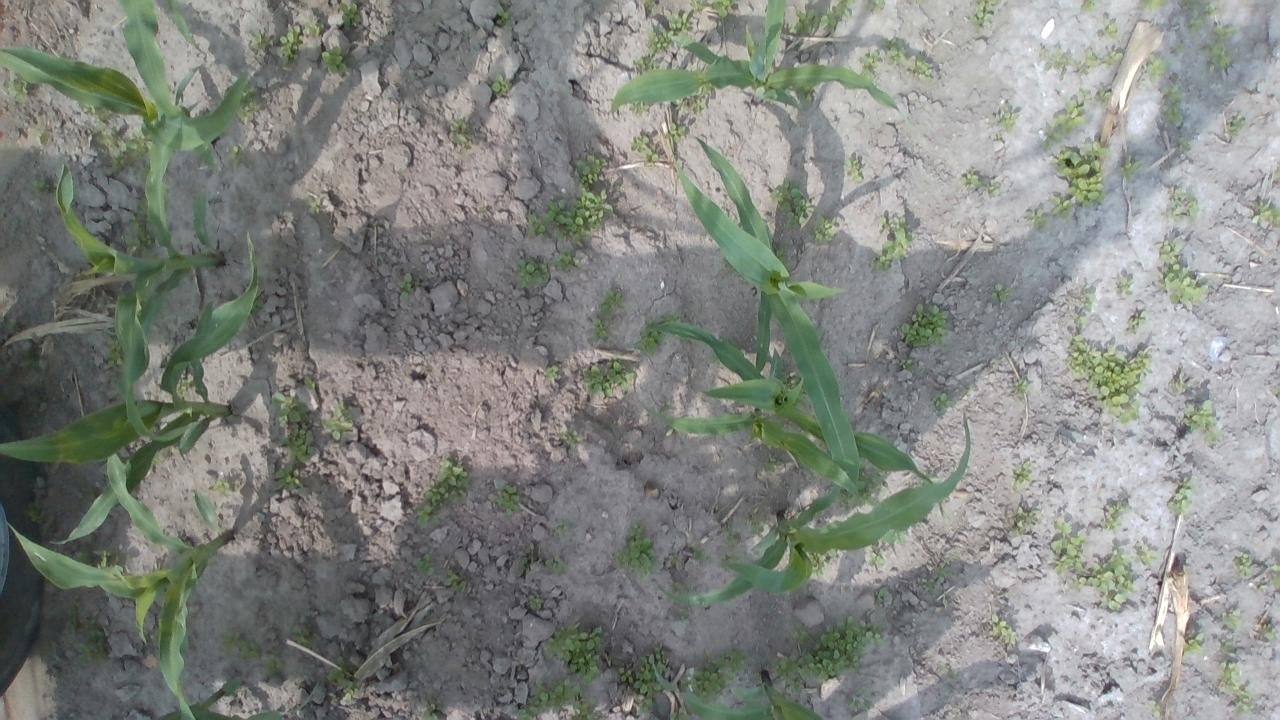Maize: (0, 230, 261, 546), (674, 133, 864, 492), (667, 410, 975, 609), (6, 452, 234, 720), (658, 313, 947, 523), (54, 118, 226, 446), (0, 0, 247, 168), (610, 0, 906, 120), (651, 657, 827, 720), (145, 672, 288, 720), (166, 0, 192, 44)
Weeds: (768, 614, 886, 693), (1066, 334, 1154, 424), (270, 393, 320, 492), (1052, 142, 1112, 220), (527, 188, 613, 240), (412, 454, 468, 529), (681, 648, 750, 706), (542, 620, 603, 684), (517, 674, 597, 720), (1157, 238, 1209, 306), (1090, 545, 1138, 613), (93, 118, 144, 174), (1050, 519, 1089, 591), (633, 644, 670, 716), (870, 216, 914, 272), (613, 521, 655, 579), (770, 174, 816, 225), (900, 302, 951, 348), (790, 0, 856, 34), (1042, 99, 1086, 149), (1183, 396, 1225, 444), (582, 359, 636, 396), (122, 199, 154, 257), (590, 288, 624, 342), (842, 472, 889, 509), (326, 656, 359, 704), (318, 401, 353, 441), (1167, 186, 1200, 226), (72, 629, 108, 665), (1166, 477, 1200, 514), (222, 628, 262, 658), (486, 477, 520, 512), (514, 257, 550, 290), (572, 154, 608, 187), (235, 82, 263, 123), (278, 22, 304, 66), (1078, 48, 1122, 74), (632, 320, 664, 355), (676, 82, 712, 113), (804, 548, 843, 576), (1100, 500, 1132, 534), (1006, 506, 1040, 538), (4, 73, 37, 104), (960, 170, 1001, 194), (926, 560, 954, 594), (628, 134, 656, 166), (1038, 46, 1072, 72), (290, 622, 321, 650), (1204, 42, 1232, 72), (971, 0, 996, 33), (319, 46, 348, 74), (1251, 200, 1280, 228), (95, 548, 125, 574), (990, 614, 1016, 644), (1215, 659, 1239, 691), (1011, 459, 1034, 490), (339, 0, 361, 32), (646, 30, 674, 55), (261, 650, 287, 676), (908, 54, 934, 80), (104, 336, 125, 368), (812, 215, 836, 242), (1078, 87, 1112, 106), (448, 116, 470, 145), (931, 388, 953, 417), (150, 444, 180, 465), (1232, 550, 1256, 576), (884, 38, 908, 64), (846, 688, 872, 712), (1146, 54, 1168, 82), (1172, 367, 1193, 396), (554, 248, 578, 272), (991, 283, 1016, 306), (1136, 542, 1158, 567), (1127, 309, 1148, 335), (1214, 23, 1240, 44), (398, 272, 415, 304), (1118, 158, 1142, 180), (1026, 207, 1050, 229), (172, 368, 189, 399), (79, 105, 114, 120), (994, 109, 1019, 130), (414, 550, 434, 576), (1160, 86, 1186, 106), (866, 542, 886, 568), (861, 50, 880, 77), (750, 507, 769, 534), (633, 56, 656, 78), (544, 558, 570, 577), (492, 74, 514, 96), (666, 122, 688, 144), (25, 499, 45, 523), (1235, 687, 1252, 715), (62, 606, 80, 632), (1183, 632, 1204, 654), (1229, 114, 1248, 138), (845, 158, 864, 182), (647, 398, 671, 417), (770, 238, 786, 266), (1141, 0, 1169, 16), (446, 570, 466, 592), (668, 12, 688, 34), (560, 429, 582, 449), (496, 3, 514, 27), (18, 350, 42, 368), (711, 0, 736, 17), (883, 528, 909, 544), (760, 457, 784, 474), (248, 31, 270, 49), (1222, 606, 1240, 628), (1080, 287, 1096, 311), (212, 479, 234, 496), (873, 586, 890, 608), (30, 176, 50, 194), (1103, 19, 1119, 41), (303, 197, 321, 216), (723, 526, 741, 545), (1186, 15, 1206, 32), (1014, 378, 1032, 396), (670, 606, 690, 622), (0, 316, 20, 332), (1118, 276, 1133, 297), (250, 292, 264, 314), (302, 18, 320, 35), (1164, 105, 1181, 123), (32, 127, 48, 146), (798, 85, 814, 104), (1260, 623, 1277, 640), (1176, 134, 1192, 152), (225, 144, 241, 162), (865, 0, 886, 13), (544, 364, 560, 381), (1081, 0, 1100, 14), (672, 581, 691, 595), (421, 707, 441, 720), (302, 374, 318, 390), (1202, 1, 1218, 17), (618, 665, 634, 681), (1271, 562, 1280, 590), (691, 543, 704, 561), (630, 102, 651, 113), (724, 260, 740, 274), (664, 310, 680, 324), (1216, 638, 1232, 652), (1072, 312, 1086, 327), (1149, 699, 1161, 716), (944, 664, 956, 680), (899, 358, 912, 372), (528, 597, 542, 610), (720, 551, 736, 562), (558, 520, 568, 536), (664, 426, 677, 436), (1184, 0, 1202, 7), (692, 0, 706, 9), (78, 550, 88, 561), (1174, 45, 1185, 55)
